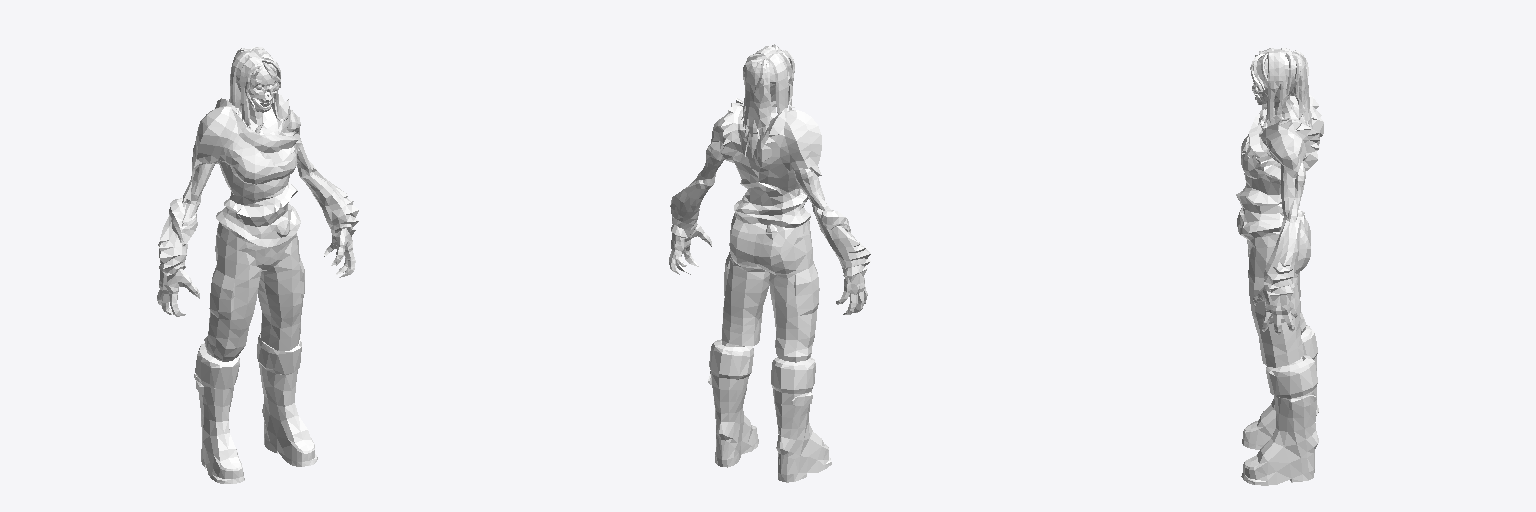
Rendered from gos.obj.
3 renders of one model, left to right at view 1: azimuth 30°, elevation 25°; view 2: azimuth 150°, elevation 25°; view 3: azimuth 270°, elevation 25°, orthographic.
Parts seen in each view (by area): view 1: Lambent_Female; view 2: Lambent_Female; view 3: Lambent_Female.
Part boxes in pixels (bbox=[...]): Lambent_Female: bbox=[157, 47, 358, 483]; Lambent_Female: bbox=[669, 44, 870, 482]; Lambent_Female: bbox=[1236, 48, 1323, 485].
Bounding box in the file's own units: 1.84 × 3.62 × 0.7056.